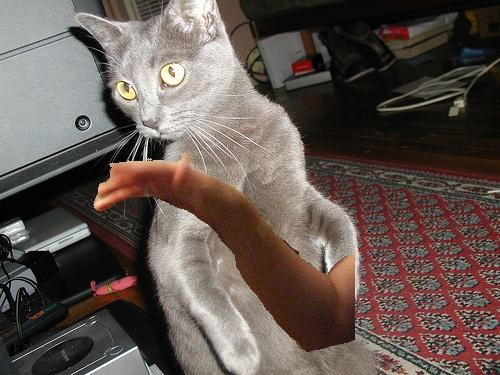tampered: (94, 153, 355, 352)
